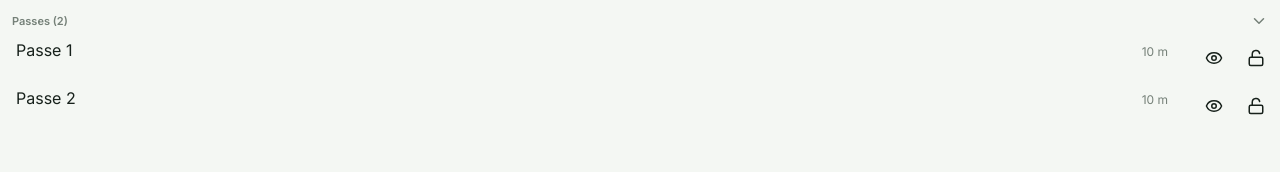
Test case: mission tree collapse › collapses a pass group so the list no longer occupies the panel
Check: the text "Passe 1" is shown, box [16,40,72,60]
Click the button with aria-label "Replier Passes (2)": x=40, y=21 [12,12,1268,30]
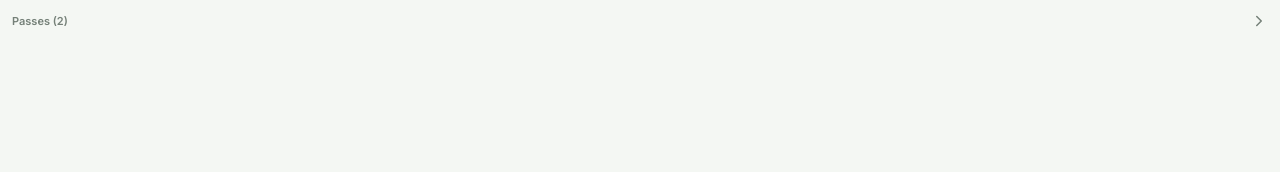
Check: the button "Passe 1" is gone
Check: the button with aria-label "Déplier Passes (2)" is shown, box [12,12,1268,30]
